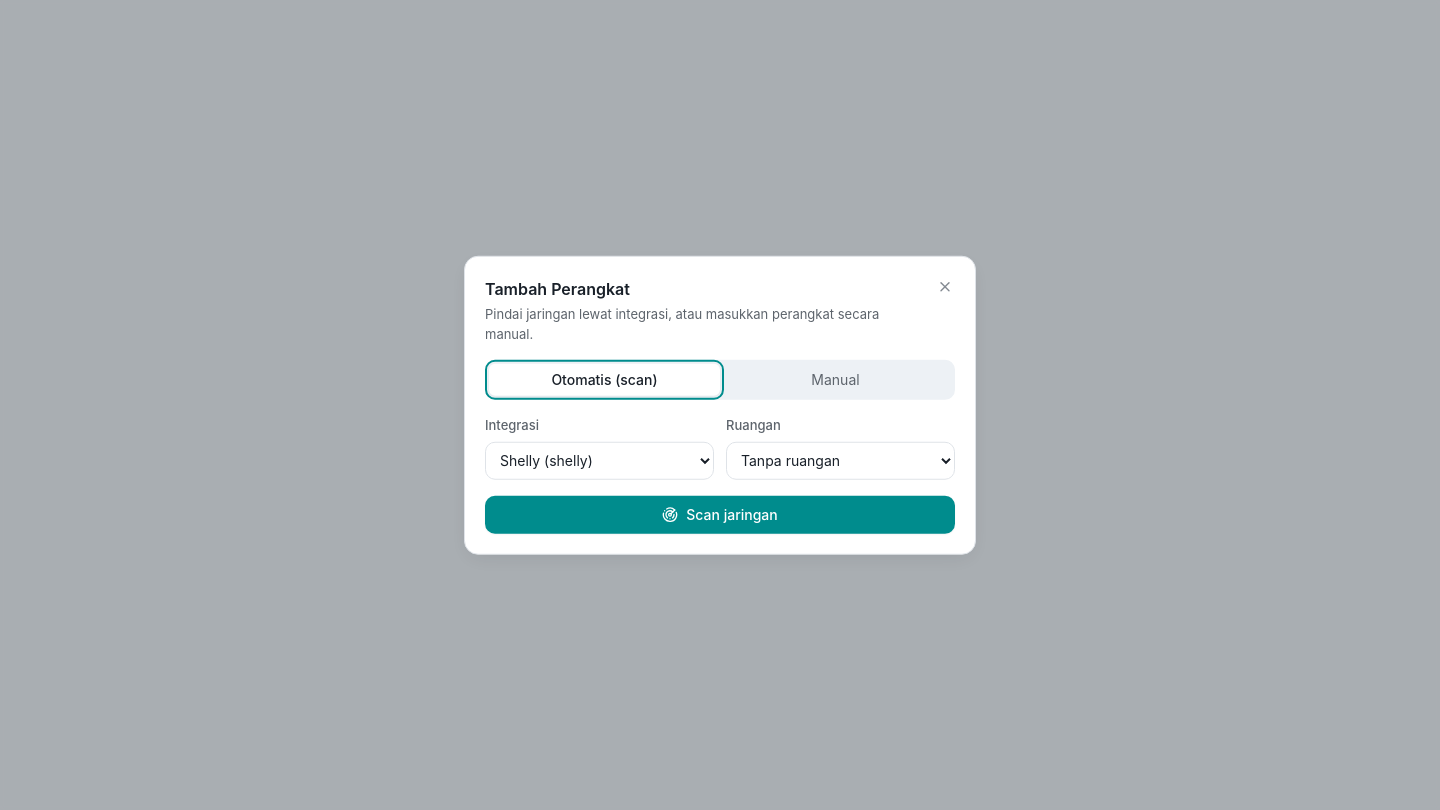
it: AddDeviceModal › scan › renders the discovered devices with a connect action each
Click the button "Scan jaringan".
click(720, 514)  # box [485,495,955,533]
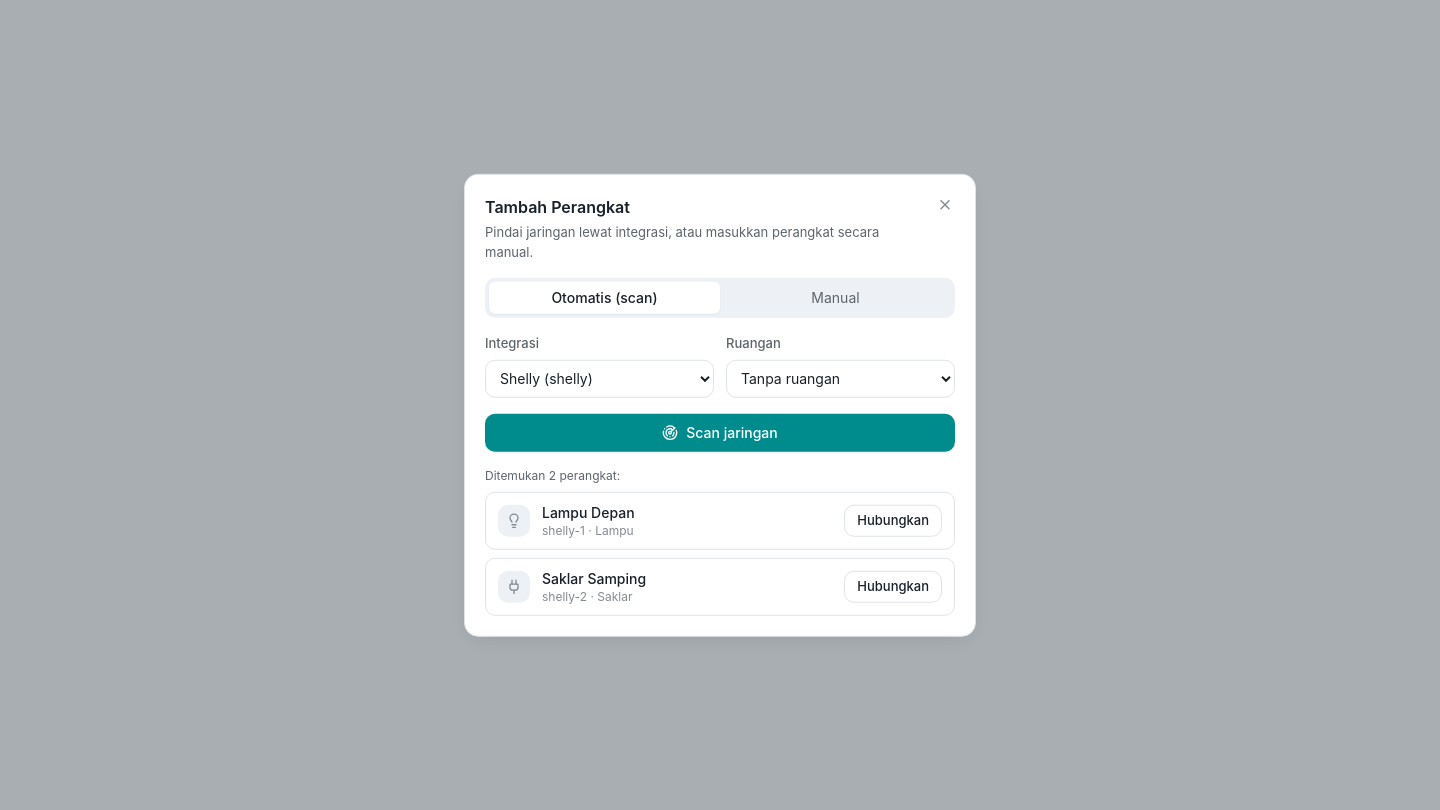
expect the text "Ditemukan 2 perangkat:" is shown: met, box [485,467,620,482]
expect the text "Lampu Depan" is shown: met, box [542,503,635,520]
expect the text "shelly-1 · Lampu" is shown: met, box [542,522,634,537]
